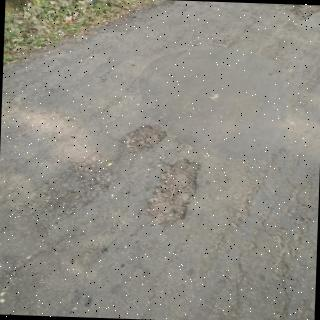pothole: (146, 159, 204, 228), (118, 126, 166, 153)
